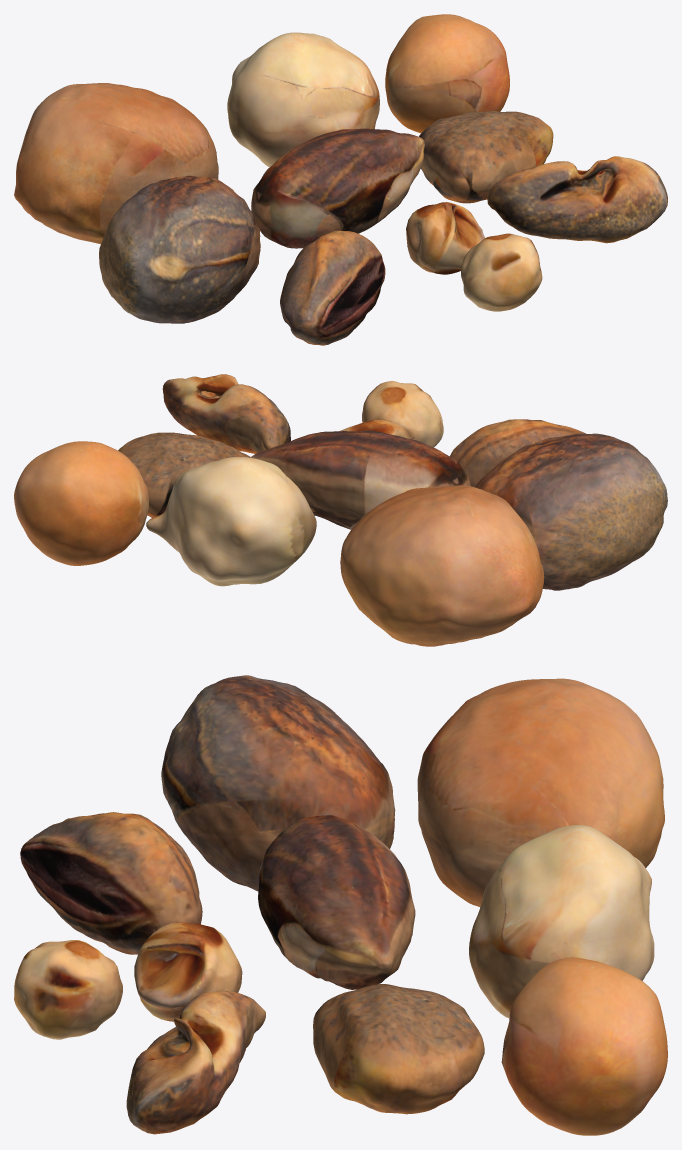
3 views of the same model, one above another, from view 1: azimuth 30°, elevation 25°; view 2: azimuth 150°, elevation 25°; view 3: azimuth 270°, elevation 25° (orthographic). The views are drawn at different scales.
Visible parts, largest first — view 1: texture; view 2: texture; view 3: texture.
Part boxes in pixels (x1,y1,x2,y2): texture: (14, 14, 667, 345); texture: (14, 374, 667, 646); texture: (14, 675, 667, 1135).
Bounding box in the file's own units: 1.99 × 0.5381 × 1.58.
Materials: 1 (1 with a texture image).
